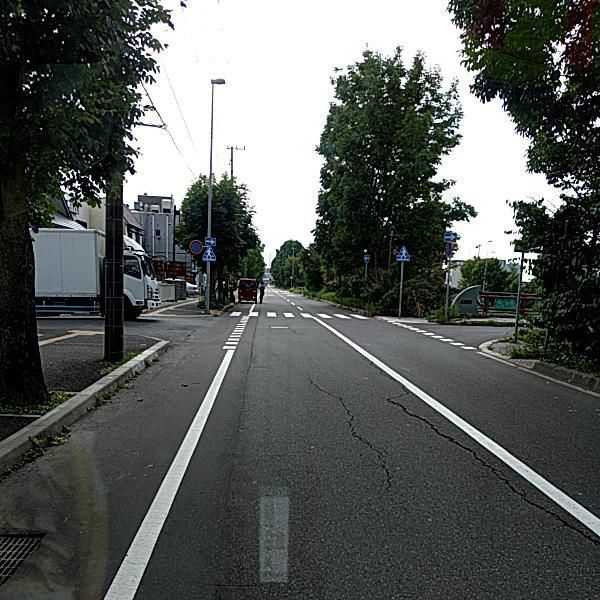D00: (387, 385, 581, 529), (306, 379, 386, 502)
